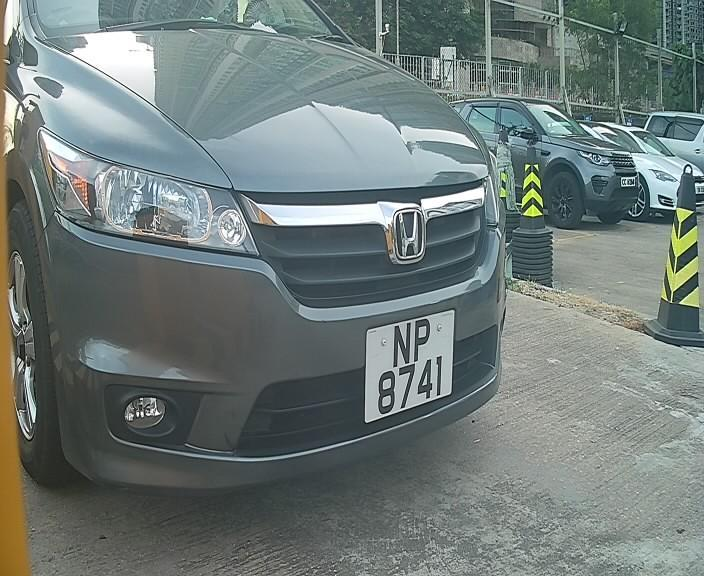privatecar: (1, 8, 554, 502)
